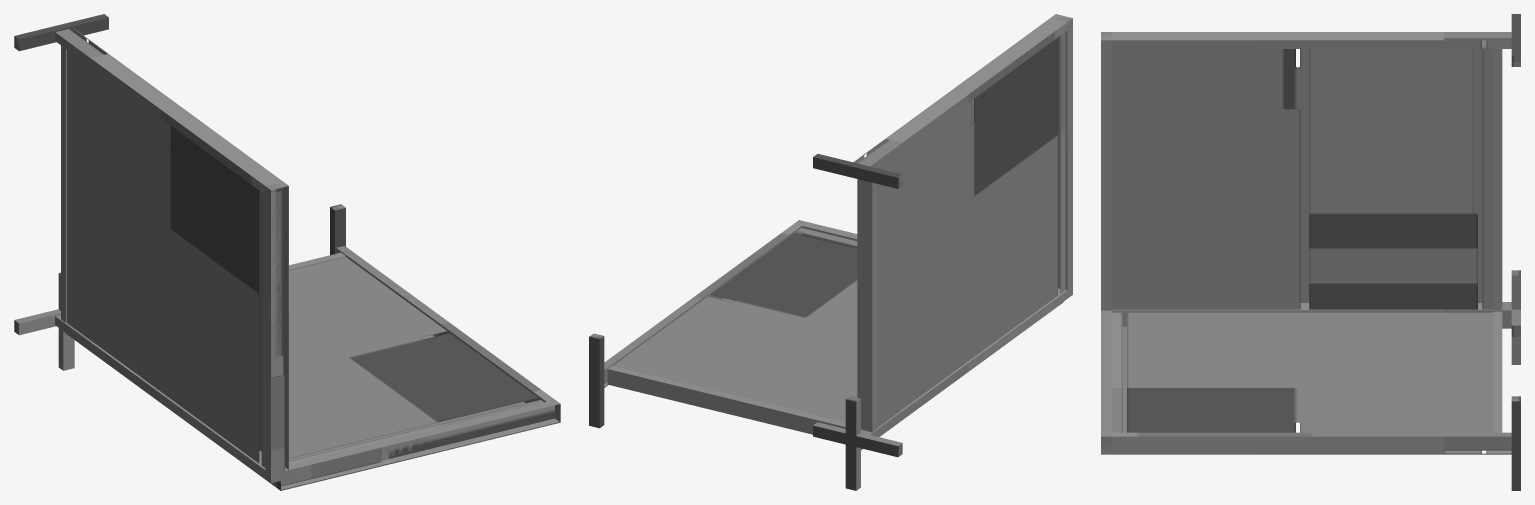
3 renders of one model, left to right at view 1: azimuth 30°, elevation 25°; view 2: azimuth 150°, elevation 25°; view 3: azimuth 270°, elevation 25°, orthographic. The views are drawn at different scales.
Bounding box in the file's own units: 1.16 × 1.16 × 1.36.
